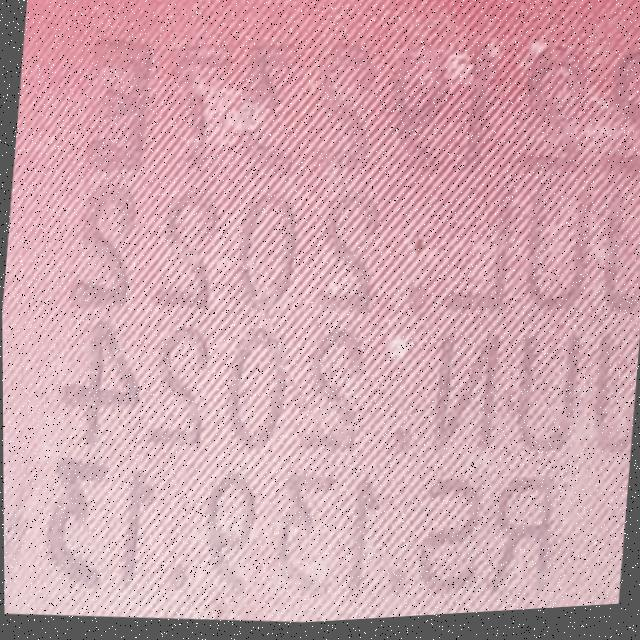sentence: (86, 24, 640, 177), (69, 176, 640, 319), (60, 320, 637, 459), (46, 461, 553, 600)
